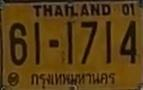1: (34, 22, 40, 64), (105, 21, 111, 62), (66, 21, 72, 62)
4: (119, 19, 136, 62)
6: (9, 22, 26, 64)
7: (80, 20, 97, 64)
BKK: (28, 69, 117, 90)
